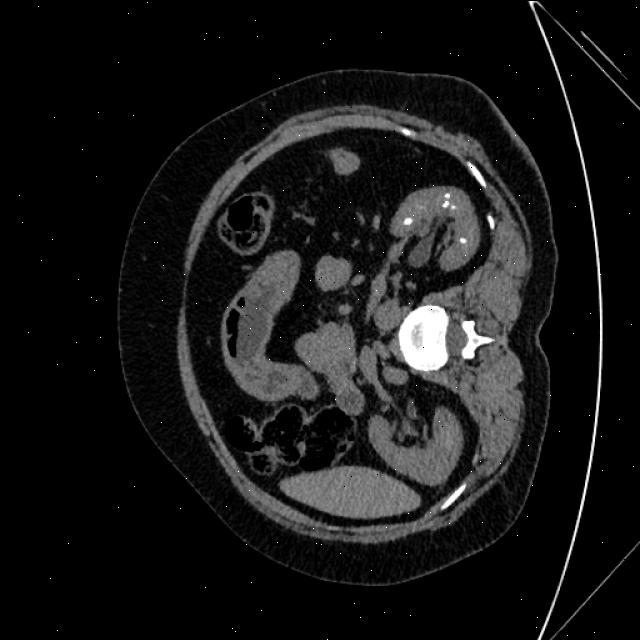kidneystone: (402, 216, 413, 225)
